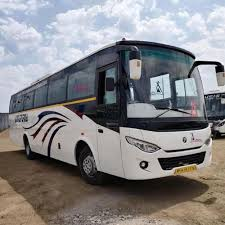bus: (8, 37, 213, 186)
